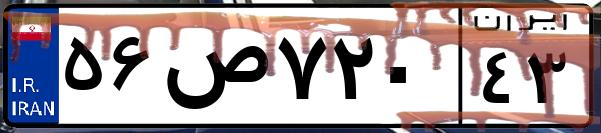0: (385, 28, 445, 110)
2: (330, 28, 385, 110)
3: (525, 38, 570, 115)
4: (475, 38, 525, 113)
5: (57, 26, 110, 100)
6: (110, 28, 158, 98)
7: (270, 28, 330, 110)
ص: (158, 20, 270, 120)
